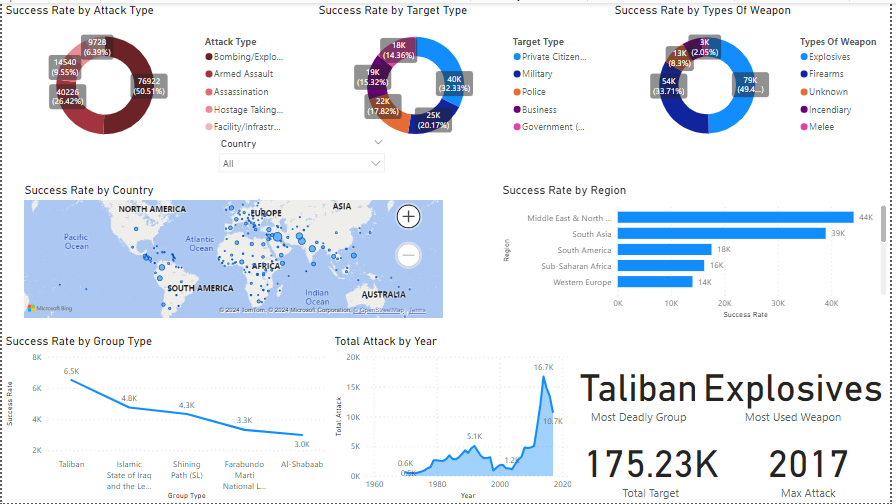

What the dashboard file says about the page in this screenshot:
{"tool":"powerbi","page":{"name":"terrorismEDA","canvas":[1280,720],"ordinal":0},"visuals":[{"type":"donutChart","fields":{"Category":["globalterrorismdb_0718dist.Attack Type"],"Y":["Sum(globalterrorismdb_0718dist.Success Rate)"]},"box":[0,0,419.9,218.4],"z":0},{"type":"donutChart","fields":{"Category":["globalterrorismdb_0718dist.Target Type"],"Y":["Sum(globalterrorismdb_0718dist.Success Rate)"]},"box":[450.2,0,409.9,218.4],"z":1000},{"type":"donutChart","fields":{"Y":["Sum(globalterrorismdb_0718dist.Success Rate)"],"Category":["globalterrorismdb_0718dist.Types Of Weapon"]},"box":[876.9,0,403.1,218.4],"z":2000},{"type":"map","fields":{"Category":["globalterrorismdb_0718dist.Country"],"Size":["Sum(globalterrorismdb_0718dist.Success Rate)"]},"box":[26.9,258.7,613.1,199.9],"z":2001},{"type":"clusteredBarChart","fields":{"Category":["globalterrorismdb_0718dist.Region"],"Y":["Sum(globalterrorismdb_0718dist.Success Rate)"]},"box":[715.6,258.7,562.7,199.9],"z":2002},{"type":"lineChart","fields":{"Y":["Sum(globalterrorismdb_0718dist.Success Rate)"],"Category":["globalterrorismdb_0718dist.Group Type"]},"box":[0,477.1,475.4,243.6],"z":2003},{"type":"areaChart","fields":{"Category":["globalterrorismdb_0718dist.Year"],"Y":["CountNonNull(globalterrorismdb_0718dist.Year)"]},"box":[473.7,477.1,351.1,243.6],"z":2004},{"type":"slicer","fields":{"Values":["globalterrorismdb_0718dist.Country"]},"box":[302.4,188.1,258.7,85.7],"z":2005},{"type":"card","fields":{"Values":["Min(globalterrorismdb_0718dist.Group Type)"]},"box":[824.8,502.3,183.1,109.2],"z":2006},{"type":"card","fields":{"Values":["CountNonNull(globalterrorismdb_0718dist.Target Type)"]},"box":[824.8,611.4,218.4,109.2],"z":2007},{"type":"card","fields":{"Values":["Max(globalterrorismdb_0718dist.Year)"]},"box":[1043.1,611.4,236.9,109.2],"z":2008},{"type":"card","fields":{"Values":["Min(globalterrorismdb_0718dist.Types Of Weapon)"]},"box":[997.8,502.3,282.2,109.2],"z":2009}]}

Visuals, with their boxes in screenshot pixels (x1, y1, x2, y2), scaled from the page's 1280x720 canvas onto the 896x504 screenshot:
donutChart - globalterrorismdb_0718dist.Attack Type x Sum(globalterrorismdb_0718dist.Success Rate): detection(0, 0, 294, 153)
donutChart - globalterrorismdb_0718dist.Target Type x Sum(globalterrorismdb_0718dist.Success Rate): detection(315, 0, 602, 153)
donutChart - Sum(globalterrorismdb_0718dist.Success Rate) x globalterrorismdb_0718dist.Types Of Weapon: detection(614, 0, 895, 153)
map - globalterrorismdb_0718dist.Country x Sum(globalterrorismdb_0718dist.Success Rate): detection(19, 181, 448, 321)
clusteredBarChart - globalterrorismdb_0718dist.Region x Sum(globalterrorismdb_0718dist.Success Rate): detection(501, 181, 895, 321)
lineChart - Sum(globalterrorismdb_0718dist.Success Rate) x globalterrorismdb_0718dist.Group Type: detection(0, 334, 333, 503)
areaChart - globalterrorismdb_0718dist.Year x CountNonNull(globalterrorismdb_0718dist.Year): detection(332, 334, 577, 503)
slicer - globalterrorismdb_0718dist.Country: detection(212, 132, 393, 192)
card - Min(globalterrorismdb_0718dist.Group Type): detection(577, 352, 706, 428)
card - CountNonNull(globalterrorismdb_0718dist.Target Type): detection(577, 428, 730, 503)
card - Max(globalterrorismdb_0718dist.Year): detection(730, 428, 895, 503)
card - Min(globalterrorismdb_0718dist.Types Of Weapon): detection(698, 352, 895, 428)
